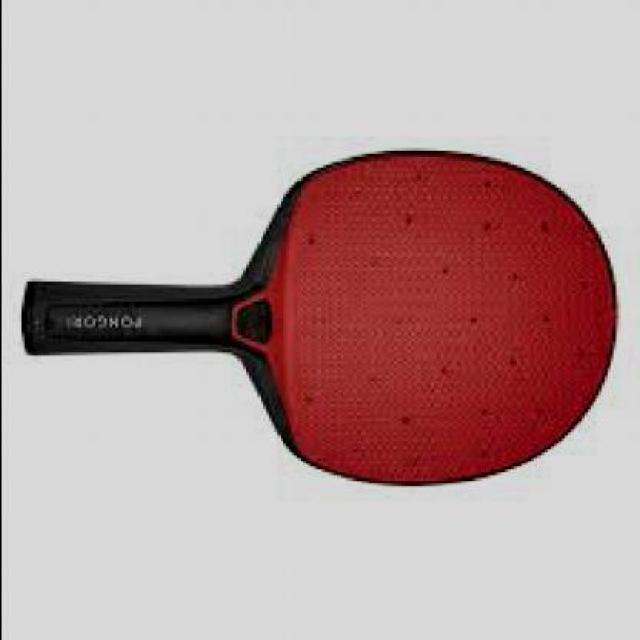table_tennis_racket: (240, 151, 624, 486)
